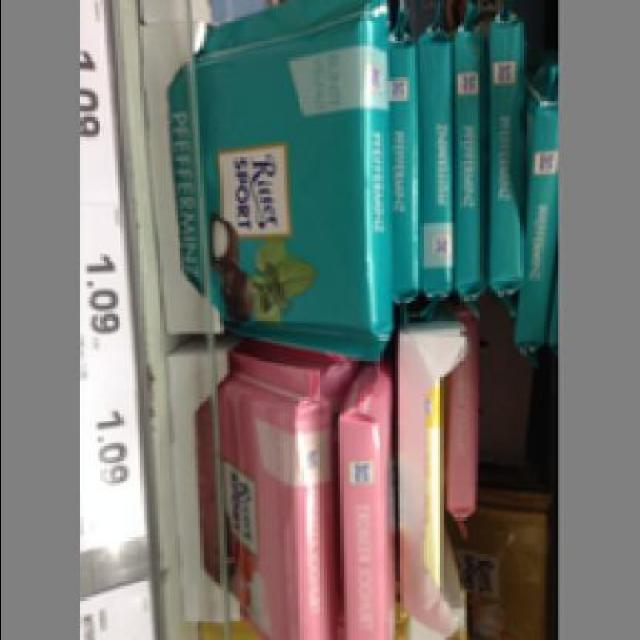Chocolate bar: (172, 1, 394, 357), (197, 360, 349, 637)
